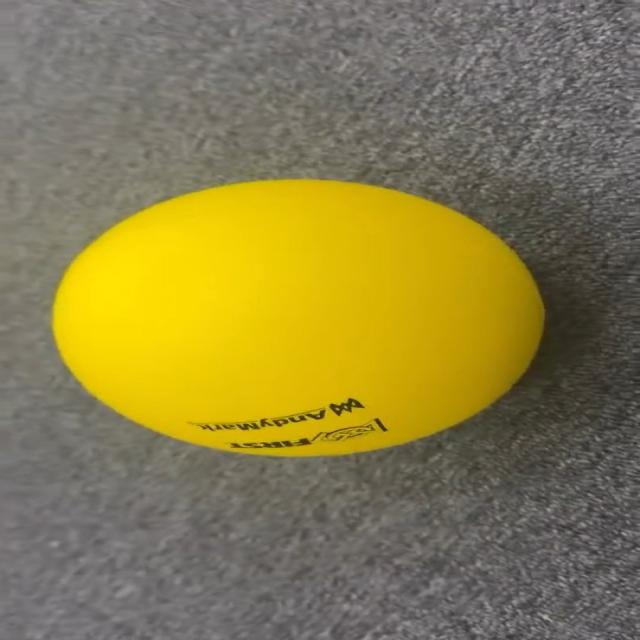Fuels: (55, 182, 547, 451)
